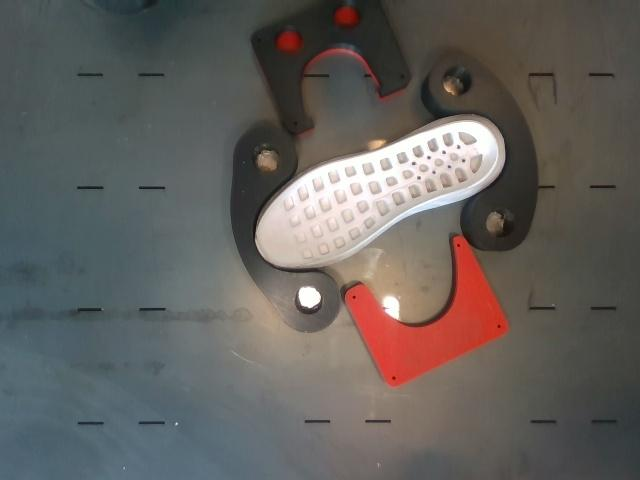shoes: (257, 121, 498, 266)
